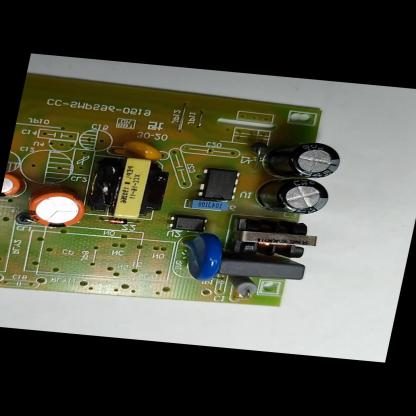Cap1: (20, 189, 88, 231)
Cap2: (0, 173, 24, 200)
Cap3: (249, 174, 334, 218)
Cap4: (259, 138, 344, 182)
MOSFET: (194, 165, 244, 203)
Mov: (169, 228, 229, 285)
Resistor: (223, 276, 260, 298)
Transformer: (83, 156, 172, 224), (228, 214, 323, 261)
